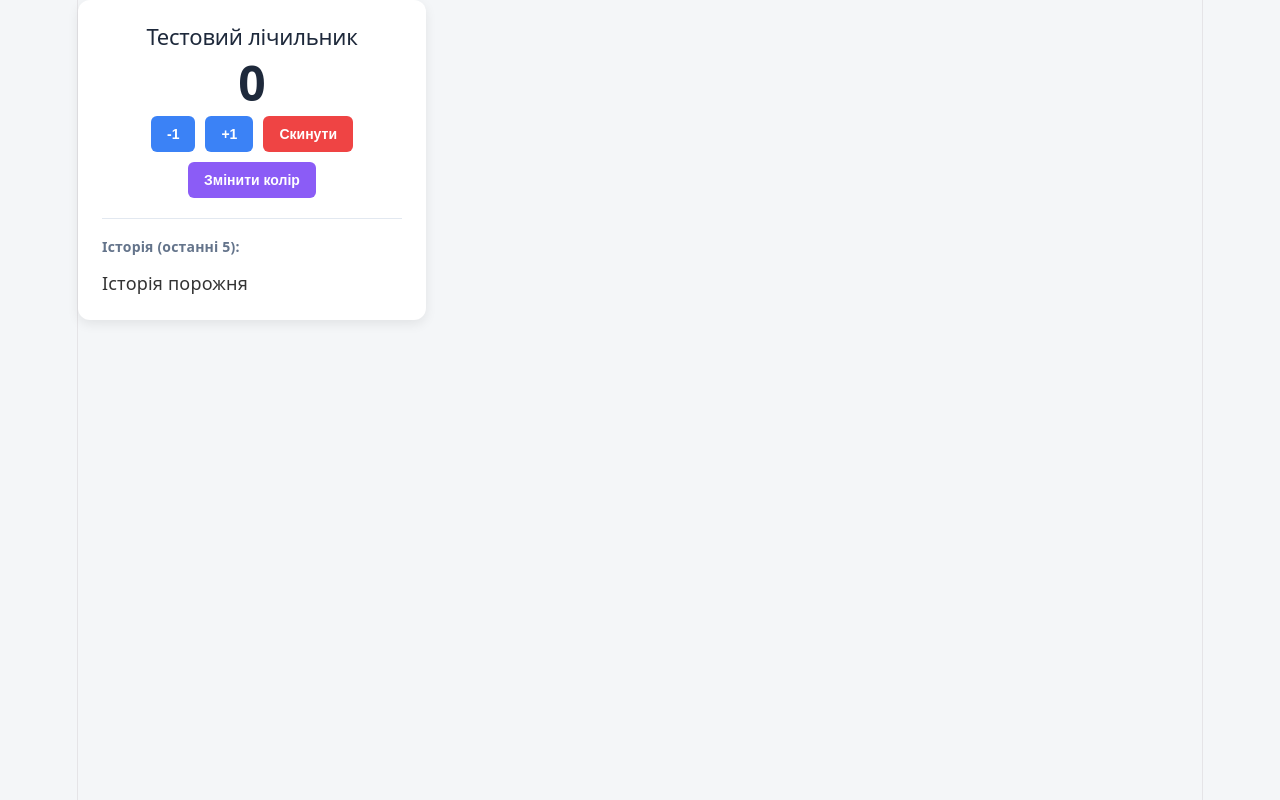
Counter Component › кнопка скидання скидає лічильник до 0 та оновлює історію
The width and height of the screenshot is (1280, 800).
What coordinates should you click on to do the following:
click the button "+1"
I would click on:
 (229, 134)
Its box is [205, 116, 253, 152].
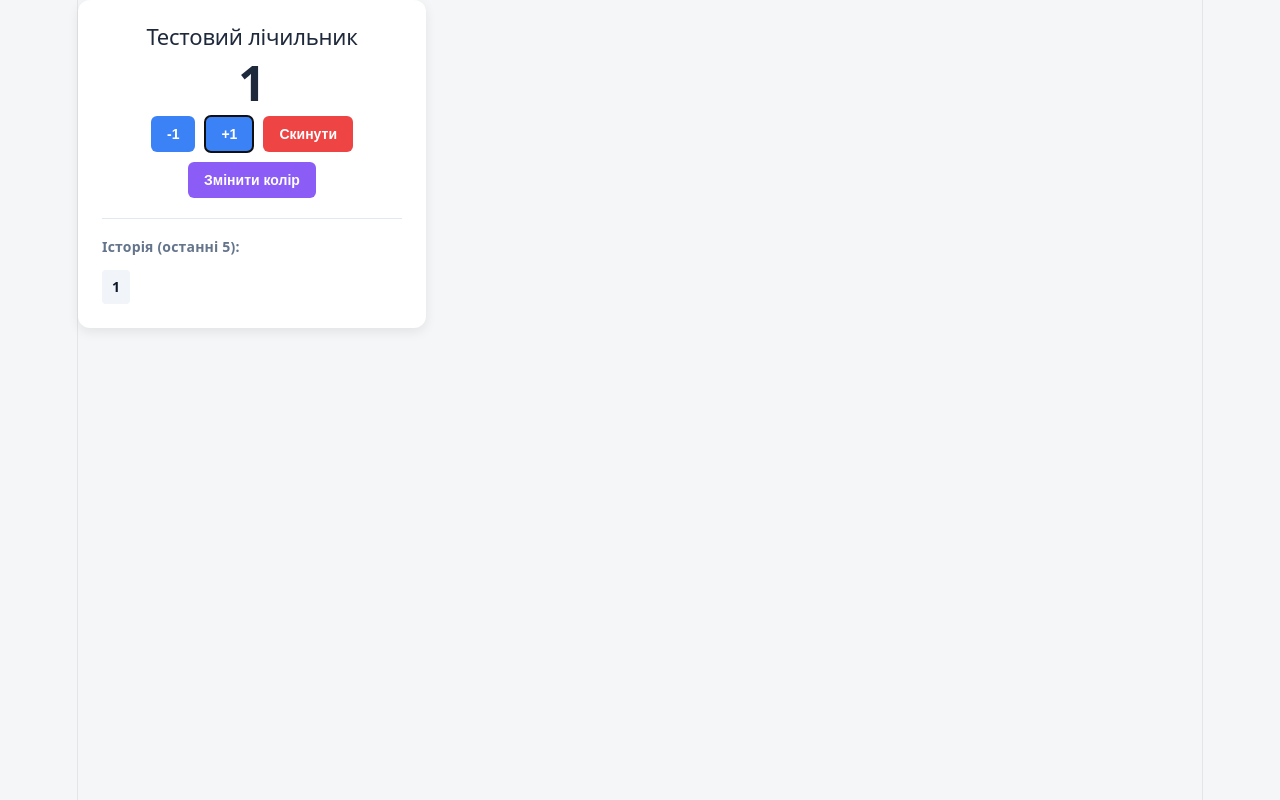
What coordinates should you click on to do the following:
click the button "+1"
I would click on:
 (229, 134)
Its box is [205, 116, 253, 152].
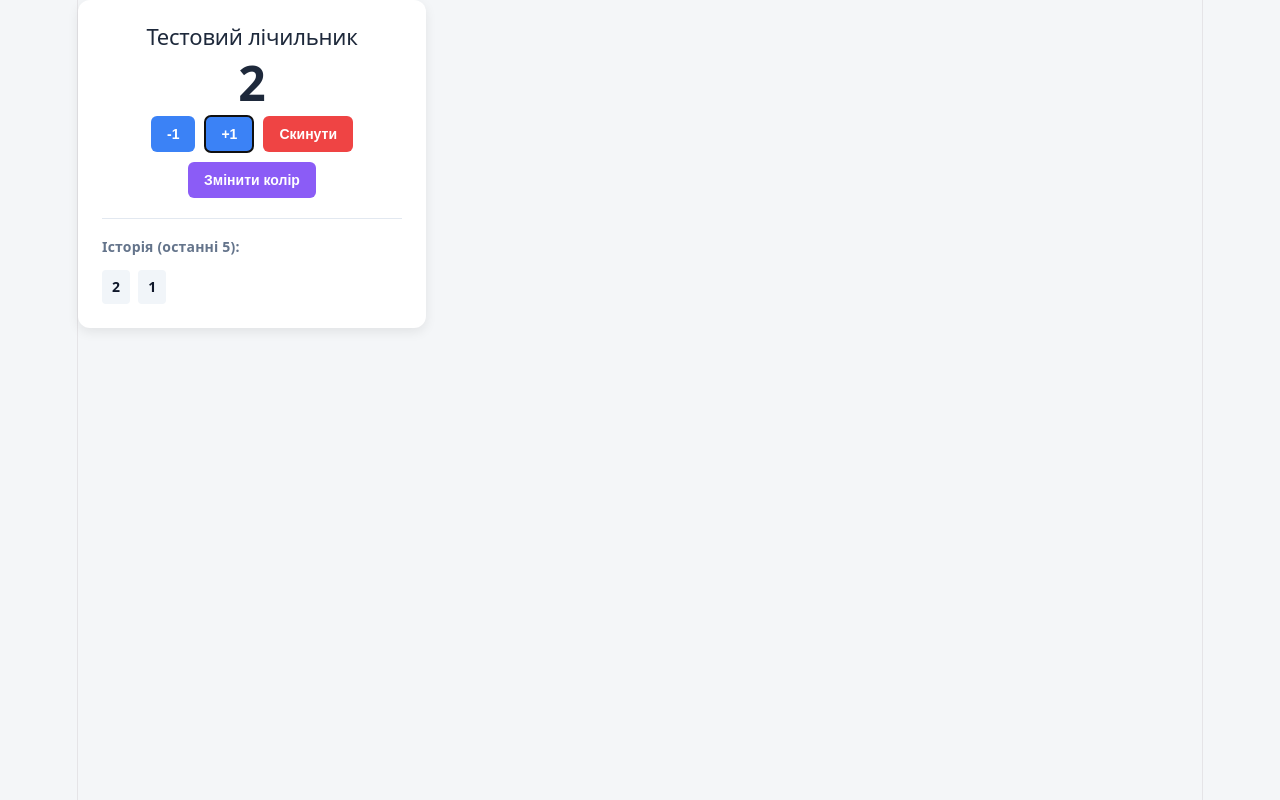
Now the text with class "count-display" reads "2", box [238, 50, 266, 115]
What coordinates should you click on to do the following:
click the button "Скинути"
I would click on:
 (308, 134)
Its box is [263, 116, 353, 152].
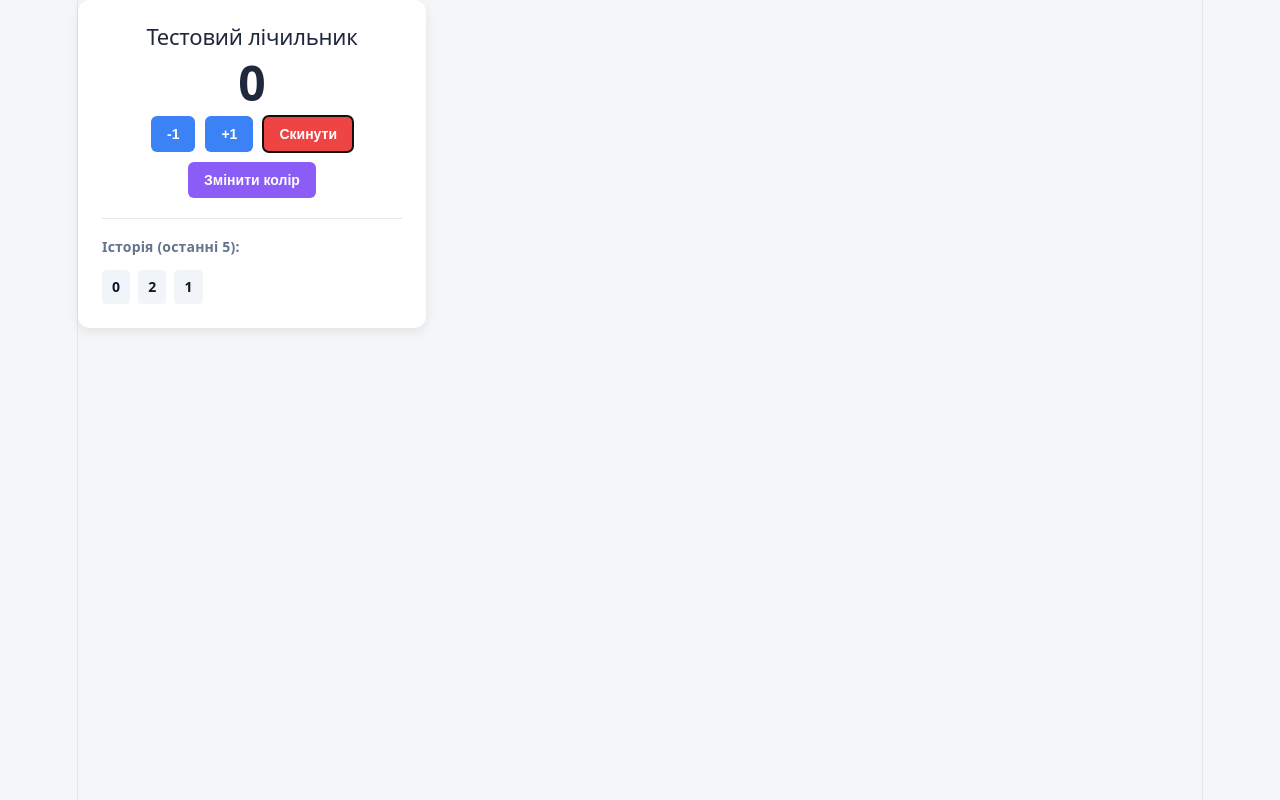
Now the text with class "count-display" reads "0", box [238, 50, 266, 115]
Now the list item "0" is shown, box [102, 270, 130, 304]
